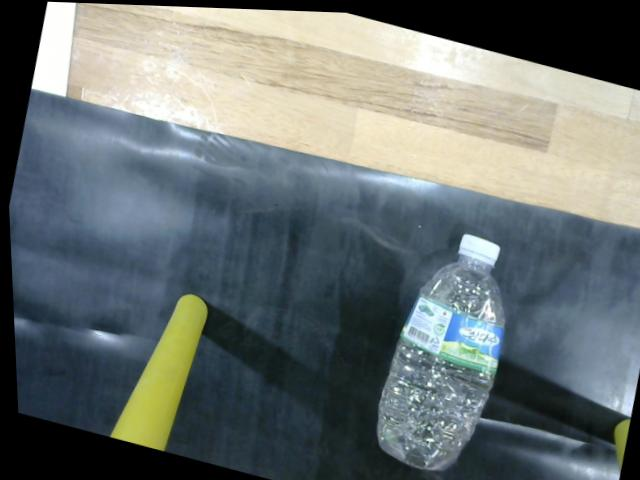bottle: (367, 219, 510, 473)
